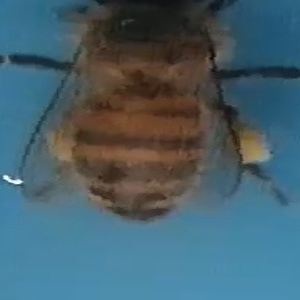bee: (5, 1, 298, 232)
